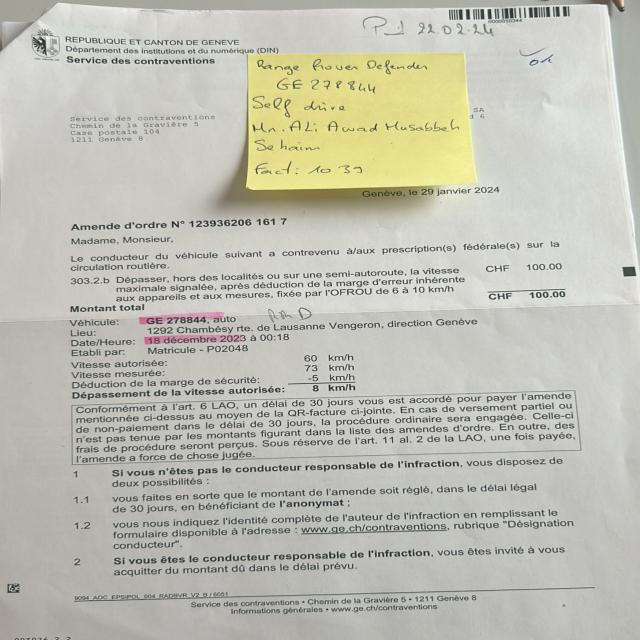paper-document-: (0, 6, 640, 640)
